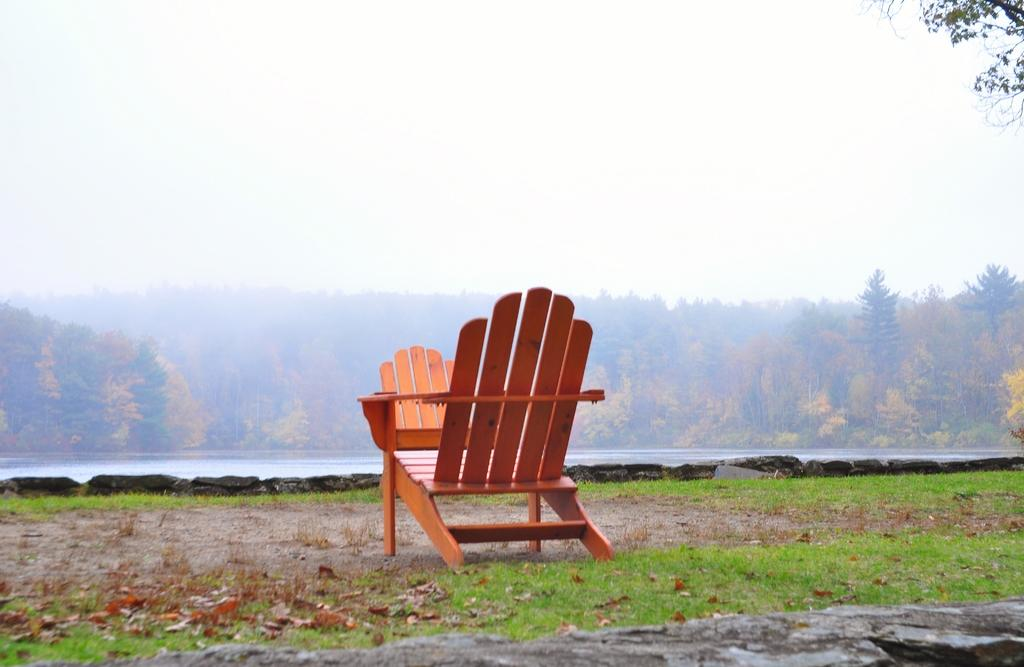Chair: (356, 295, 635, 577)
